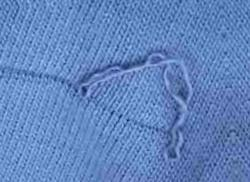snag: (70, 75, 111, 107)
